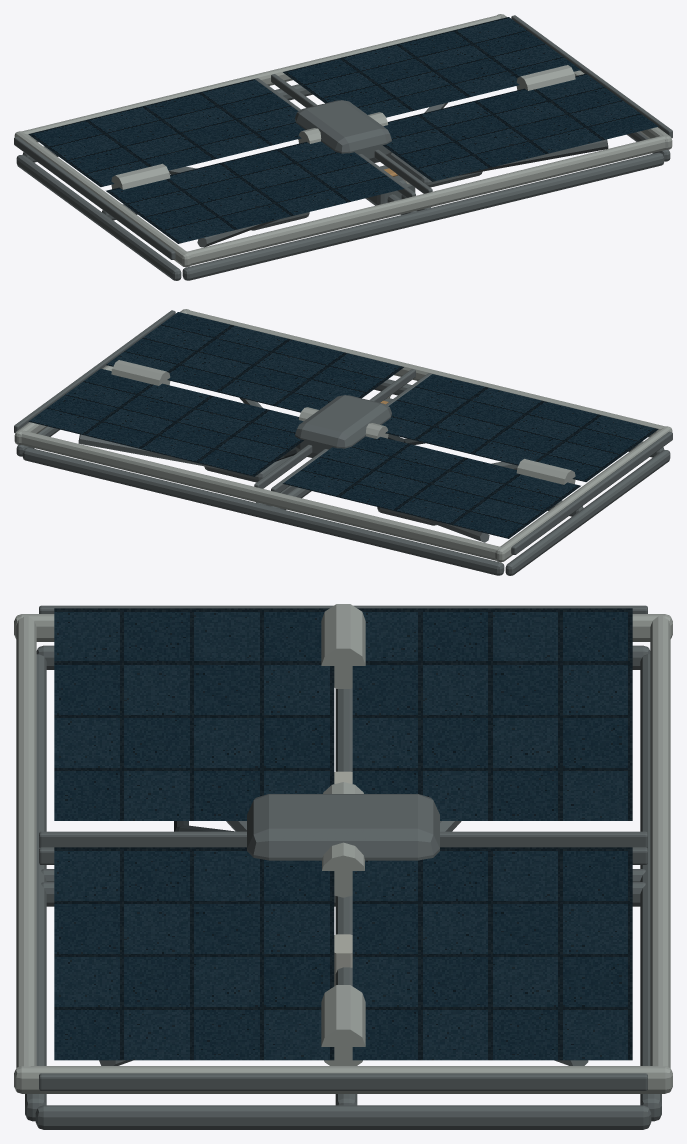
Rendered from solar_array_repair_v1.glb.
The picture shows the model from 3 angles, top to bottom: view 1: azimuth 30°, elevation 25°; view 2: azimuth 150°, elevation 25°; view 3: azimuth 270°, elevation 25°; orthographic projection. The views are drawn at different scales.
Parts seen in each view (by area): view 1: Segmented photovoltaic laminate.001, Segmented photovoltaic laminate.003, Segmented photovoltaic laminate, Segmented photovoltaic laminate.002, Wing perimeter rail.003, Backing cross member.006, Central hinge casing, Backing cross member, Wing perimeter rail.002, Panel cell divider, Wing perimeter rail, Panel cell divider.003 (+8 smaller); view 2: Segmented photovoltaic laminate, Segmented photovoltaic laminate.002, Segmented photovoltaic laminate.001, Segmented photovoltaic laminate.003, Wing perimeter rail.002, Backing cross member.004, Central hinge casing, Backing cross member, Wing perimeter rail.003, Panel cell divider, Wing perimeter rail, Panel cell divider.003 (+8 smaller); view 3: Segmented photovoltaic laminate.002, Segmented photovoltaic laminate.003, Segmented photovoltaic laminate, Segmented photovoltaic laminate.001, Backing cross member.003, Central hinge casing, Panel cell divider.003, Wing perimeter rail.003, Wing perimeter rail.002, Wing perimeter rail.001, Panel cell divider.001, Backing cross member.004 (+7 smaller).
Boxes of the visible parts, x1,y1,x2,y2 form: Segmented photovoltaic laminate.001: (106, 141, 404, 243); Segmented photovoltaic laminate.003: (383, 73, 658, 181); Segmented photovoltaic laminate: (28, 79, 305, 186); Segmented photovoltaic laminate.002: (283, 17, 580, 117); Wing perimeter rail.003: (184, 135, 666, 265); Backing cross member.006: (182, 152, 664, 280); Central hinge casing: (295, 100, 391, 162); Backing cross member: (16, 155, 181, 280); Wing perimeter rail.002: (21, 15, 500, 142); Panel cell divider: (14, 136, 175, 259); Wing perimeter rail: (14, 131, 191, 267); Panel cell divider.003: (511, 15, 672, 137); Segmented photovoltaic laminate: (282, 436, 580, 538); Segmented photovoltaic laminate.002: (28, 368, 303, 476); Segmented photovoltaic laminate.001: (381, 374, 658, 481); Segmented photovoltaic laminate.003: (106, 312, 403, 412); Wing perimeter rail.002: (21, 430, 500, 560); Backing cross member.004: (22, 447, 504, 575); Central hinge casing: (295, 395, 391, 457); Backing cross member: (505, 450, 670, 575); Wing perimeter rail.003: (184, 309, 666, 437); Panel cell divider: (511, 431, 672, 554); Wing perimeter rail: (495, 426, 672, 562); Panel cell divider.003: (14, 310, 175, 432); Segmented photovoltaic laminate.002: (352, 847, 632, 1060); Segmented photovoltaic laminate.003: (54, 847, 334, 1060); Segmented photovoltaic laminate: (352, 608, 632, 820); Segmented photovoltaic laminate.001: (54, 608, 334, 820); Backing cross member.003: (35, 1105, 651, 1129); Central hinge casing: (247, 794, 439, 860); Panel cell divider.003: (39, 1073, 647, 1090); Wing perimeter rail.003: (16, 614, 36, 1067); Wing perimeter rail.002: (650, 616, 670, 1067); Wing perimeter rail.001: (14, 1066, 672, 1093); Panel cell divider.001: (39, 831, 647, 847); Backing cross member.004: (640, 654, 661, 1121).
Size of the model in its own units: 3.59 by 0.47 by 2.12.
6 materials, 1 textured.
